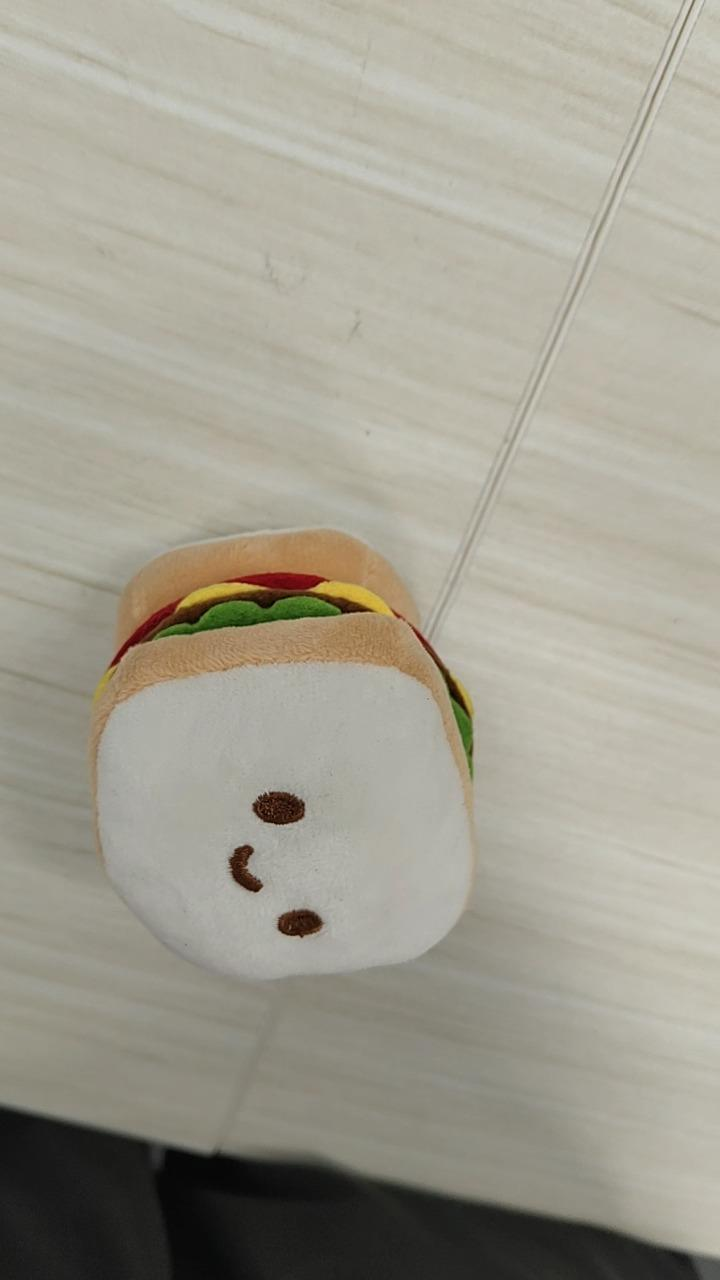objects: (88, 525, 478, 983)
